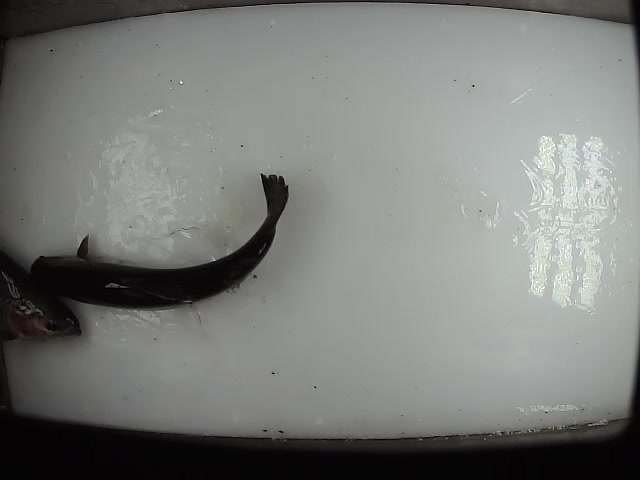fish: (29, 171, 291, 312), (1, 244, 84, 342)
